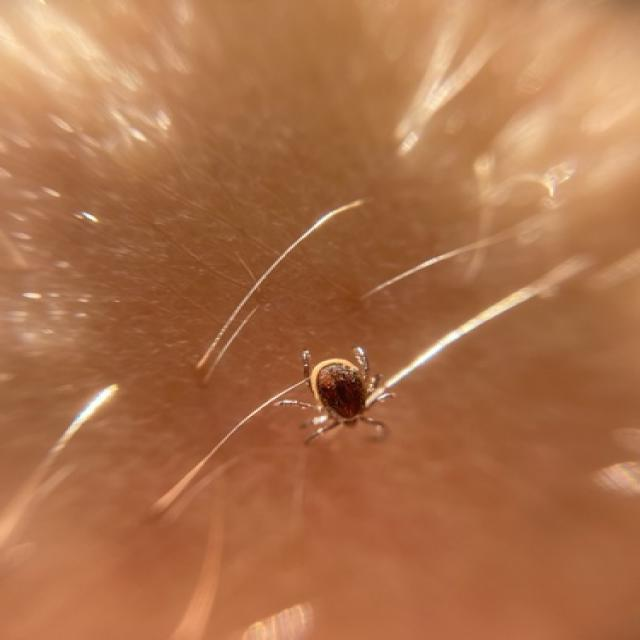Ixodes Ricinus-M: (304, 347, 396, 445)
